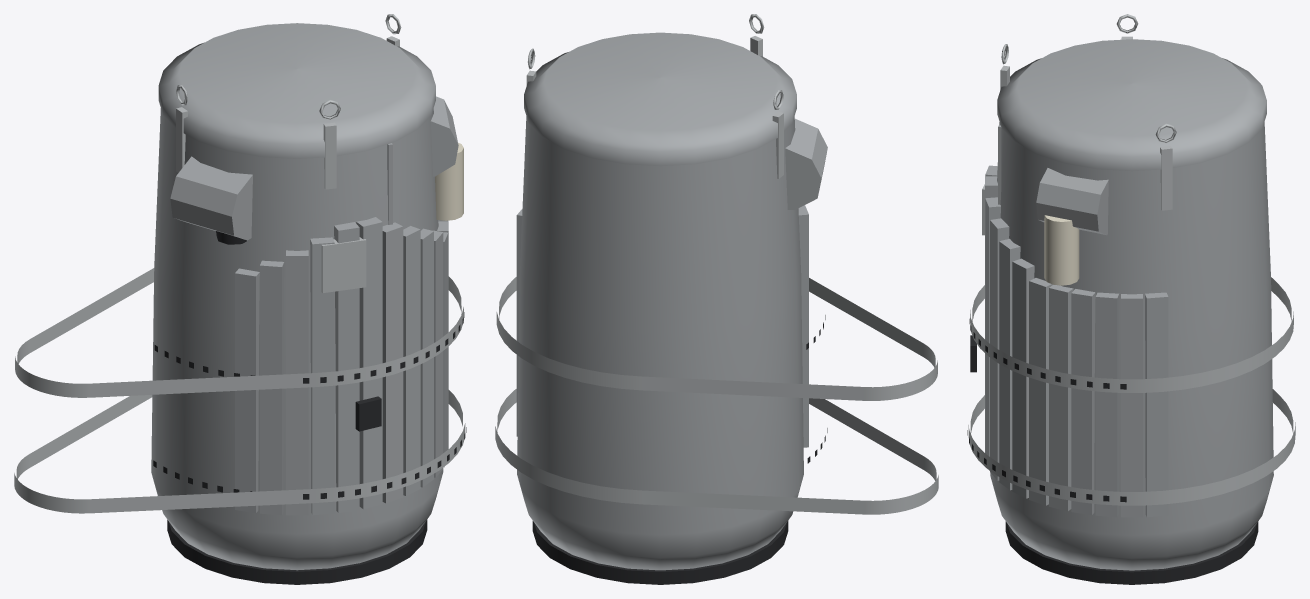
Rendered from pole_transformer_m_01.glb.
3 views of the same model, side by side, from view 1: azimuth 30°, elevation 25°; view 2: azimuth 150°, elevation 25°; view 3: azimuth 270°, elevation 25° (orthographic). The views are drawn at different scales.
Parts seen in each view (by area): view 1: tank, fins, lid, band_1, band_2, hood_a, base_plate, plate_a, hood_b, sleeve_b, lug_2, plate_b (+3 smaller); view 2: tank, lid, band_2, band_1, base_plate, hood_a, fins, lug_1; view 3: tank, fins, lid, band_2, band_1, base_plate, hood_b, sleeve_b, lug_3.
Part boxes in pixels (left/top/right/bottom): tank: left=151, top=108, right=443, bottom=570; fins: left=235, top=217, right=448, bottom=515; lid: left=158, top=23, right=435, bottom=158; band_1: left=15, top=268, right=463, bottom=397; band_2: left=14, top=390, right=465, bottom=513; hood_a: left=170, top=156, right=252, bottom=240; base_plate: left=167, top=519, right=427, bottom=584; plate_a: left=321, top=237, right=366, bottom=293; hood_b: left=431, top=96, right=458, bottom=176; sleeve_b: left=435, top=142, right=463, bottom=220; lug_2: left=319, top=100, right=340, bottom=189; plate_b: left=355, top=396, right=381, bottom=431; tank: left=517, top=116, right=803, bottom=570; lid: left=524, top=32, right=796, bottom=166; band_2: left=495, top=389, right=938, bottom=514; band_1: left=496, top=277, right=937, bottom=400; base_plate: left=532, top=521, right=788, bottom=584; hood_a: left=785, top=118, right=827, bottom=209; fins: left=516, top=205, right=808, bottom=447; lug_1: left=772, top=90, right=783, bottom=178; tank: left=990, top=122, right=1273, bottom=570; fins: left=985, top=165, right=1168, bottom=517; lid: left=997, top=39, right=1266, bottom=171; band_2: left=968, top=389, right=1295, bottom=505; band_1: left=970, top=277, right=1293, bottom=392; base_plate: left=1005, top=521, right=1258, bottom=584; hood_b: left=1036, top=168, right=1108, bottom=235; sleeve_b: left=1044, top=215, right=1079, bottom=285; lug_3: left=1155, top=123, right=1176, bottom=210.
Bounding box in the file's own units: 0.8404 × 0.9275 × 0.5844.
